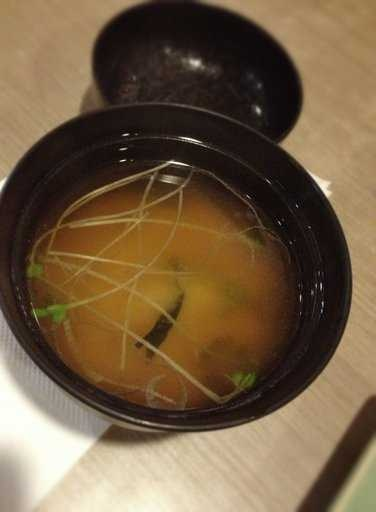soup: (19, 126, 296, 423)
